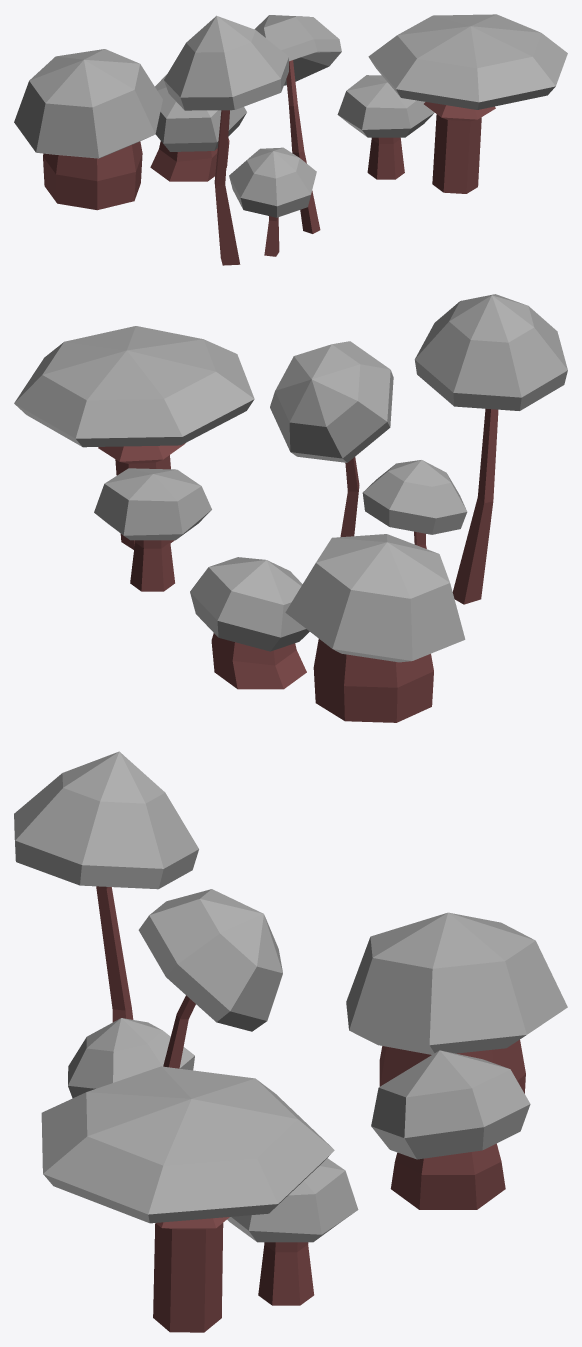
Rendered from CHAMPI TOUT.fbx.
The picture shows the model from 3 angles, top to bottom: view 1: azimuth 30°, elevation 25°; view 2: azimuth 150°, elevation 25°; view 3: azimuth 270°, elevation 25°; orthographic projection. The views are drawn at different scales.
Visible parts, largest first — view 1: polySurface1, polySurface6, polySurface9, polySurface5, polySurface12, polySurface2, polySurface4, polySurface14, polySurface8, polySurface11, polySurface7, polySurface13 (+2 smaller); view 2: polySurface1, polySurface6, polySurface9, polySurface14, polySurface8, polySurface5, polySurface4, polySurface12, polySurface11, polySurface7, polySurface3, polySurface2 (+1 smaller); view 3: polySurface1, polySurface6, polySurface9, polySurface14, polySurface8, polySurface2, polySurface7, polySurface4, polySurface12, polySurface3, polySurface11, polySurface5 (+1 smaller).
Part boxes in pixels (x1,y1,x2,y2): polySurface1: (368,14,567,109); polySurface6: (14,49,162,158); polySurface9: (164,15,288,110); polySurface5: (43,141,142,210); polySurface12: (229,147,316,217); polySurface2: (424,102,495,193); polySurface4: (337,75,434,137); polySurface14: (254,15,341,85); polySurface8: (155,74,246,151); polySurface11: (214,110,240,265); polySurface7: (150,138,229,181); polySurface13: (286,60,320,233); polySurface1: (14,326,254,447); polySurface6: (285,534,465,662); polySurface9: (414,294,567,410); polySurface14: (270,341,393,462); polySurface8: (190,557,309,651); polySurface5: (313,639,433,722); polySurface4: (94,468,211,540); polySurface12: (362,460,467,534); polySurface11: (452,408,498,604); polySurface7: (211,633,306,689); polySurface3: (130,540,174,591); polySurface2: (98,443,185,549); polySurface1: (41,1066,334,1223); polySurface6: (346,912,567,1054); polySurface9: (14,751,198,889); polySurface14: (138,889,282,1031); polySurface8: (371,1050,530,1159); polySurface2: (153,1217,229,1332); polySurface7: (390,1143,505,1209); polySurface4: (227,1158,358,1242); polySurface12: (68,1018,194,1098); polySurface3: (258,1242,314,1305); polySurface11: (96,886,133,1022); polySurface5: (379,1039,525,1093).
Bounding box in the file's own units: 163 × 89.35 × 118.
